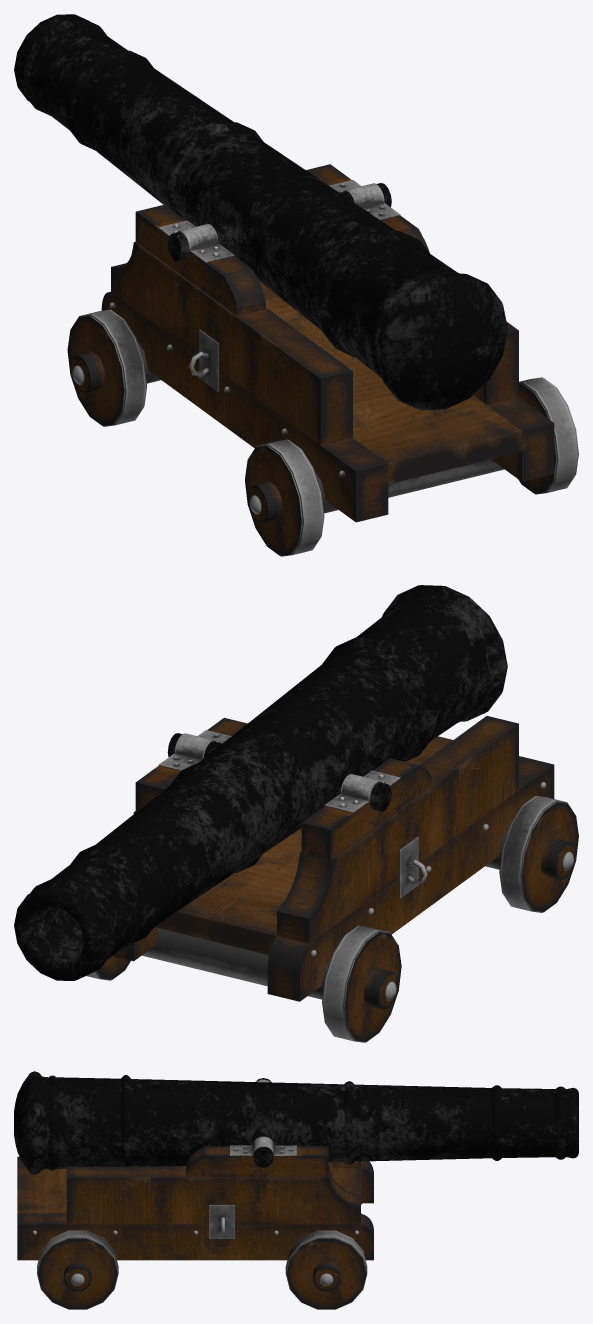
File: son.fbx
The picture shows the model from 3 angles, top to bottom: view 1: azimuth 30°, elevation 25°; view 2: azimuth 150°, elevation 25°; view 3: azimuth 270°, elevation 25°; orthographic projection. The views are drawn at different scales.
Visible parts, largest first — view 1: 7_low, 1_low, 6_low, 2_low, 11_low, 3_low, 4_low, 5_low, 10_low; view 2: 7_low, 1_low, 6_low, 2_low, 11_low, 3_low, 5_low, 4_low, 10_low; view 3: 7_low, 1_low, 6_low, 2_low, 3_low, 11_low, 10_low, 4_low.
Part boxes in pixels (x1,y1,x2,y2): 7_low: (14,14,507,410); 1_low: (111,241,518,445); 6_low: (67,309,578,556); 2_low: (101,291,554,522); 11_low: (259,281,521,484); 3_low: (135,164,429,315); 4_low: (158,180,400,262); 5_low: (138,342,504,513); 10_low: (199,329,219,391); 7_low: (14,585,507,980); 1_low: (133,716,518,943); 6_low: (86,796,578,1042); 2_low: (112,756,554,1001); 11_low: (155,736,521,954); 3_low: (135,717,431,859); 5_low: (142,828,508,999); 4_low: (159,730,400,812); 10_low: (399,836,418,898); 7_low: (14,1071,578,1174); 1_low: (66,1161,360,1224); 6_low: (37,1203,367,1309); 2_low: (17,1156,373,1260); 3_low: (186,1146,328,1176); 11_low: (17,1167,360,1213); 10_low: (209,1204,234,1238); 4_low: (230,1079,296,1155).
Size of the model in its own units: 442 by 349 by 957.
